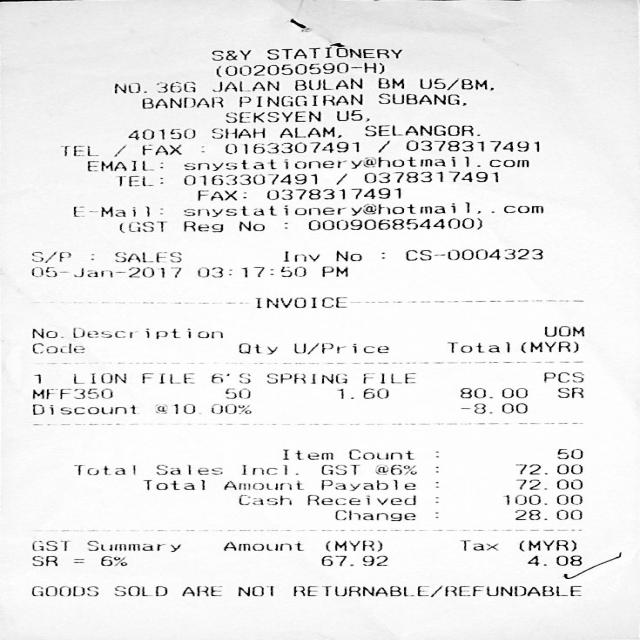text: (183, 202, 541, 216), (183, 156, 528, 170), (292, 585, 580, 596), (215, 62, 381, 76), (307, 217, 481, 229), (71, 327, 221, 338), (404, 248, 540, 260), (30, 266, 178, 277), (224, 142, 356, 154), (182, 173, 314, 185), (238, 94, 360, 106), (363, 171, 496, 182), (265, 188, 398, 199), (265, 48, 398, 58), (404, 140, 537, 150), (364, 124, 471, 136), (196, 266, 304, 277), (226, 110, 320, 122), (85, 540, 178, 552), (306, 494, 414, 504), (112, 81, 194, 94), (138, 96, 225, 108), (378, 92, 464, 104), (293, 342, 386, 353), (320, 479, 413, 490), (31, 404, 133, 414), (255, 296, 347, 307), (499, 492, 580, 504), (73, 206, 161, 216), (418, 78, 491, 90), (334, 510, 416, 520), (266, 373, 346, 383), (294, 78, 360, 90), (516, 508, 582, 520), (515, 538, 580, 550), (512, 462, 580, 473), (87, 160, 160, 170), (212, 80, 278, 91), (127, 128, 193, 139), (113, 251, 179, 262), (520, 341, 580, 353), (221, 541, 301, 550), (461, 402, 526, 413), (222, 480, 300, 489), (278, 126, 339, 137), (458, 388, 525, 398), (346, 448, 412, 458), (319, 555, 385, 565), (30, 586, 96, 596), (515, 479, 580, 489), (527, 554, 581, 566), (156, 464, 219, 474), (336, 386, 388, 398), (446, 342, 508, 352), (321, 540, 383, 550), (141, 480, 202, 490), (30, 342, 82, 353), (240, 464, 295, 474), (72, 465, 133, 474), (72, 373, 125, 383), (280, 449, 332, 459), (237, 494, 289, 504), (114, 585, 166, 595), (212, 128, 263, 138), (141, 372, 192, 382), (362, 372, 413, 382), (118, 221, 164, 232), (116, 175, 160, 186), (31, 387, 68, 400), (198, 190, 245, 200), (73, 387, 110, 399), (542, 325, 582, 336), (184, 220, 220, 232), (210, 49, 248, 60), (31, 251, 68, 262), (374, 464, 414, 474), (459, 539, 495, 550), (542, 372, 581, 382), (141, 144, 179, 154), (237, 343, 275, 353), (321, 464, 358, 474), (182, 585, 219, 595), (209, 404, 249, 413), (154, 404, 193, 413), (282, 251, 317, 261), (31, 540, 66, 550), (210, 373, 248, 382), (62, 145, 96, 155), (238, 585, 272, 595), (334, 110, 366, 120), (376, 77, 402, 88), (334, 250, 360, 261), (237, 220, 263, 230), (555, 387, 581, 397), (100, 555, 126, 565), (223, 388, 248, 398), (31, 555, 56, 565), (321, 266, 345, 276), (556, 448, 580, 458), (31, 328, 56, 337), (377, 140, 388, 152), (114, 145, 124, 155), (334, 174, 344, 184), (32, 373, 38, 382), (73, 558, 81, 562)
